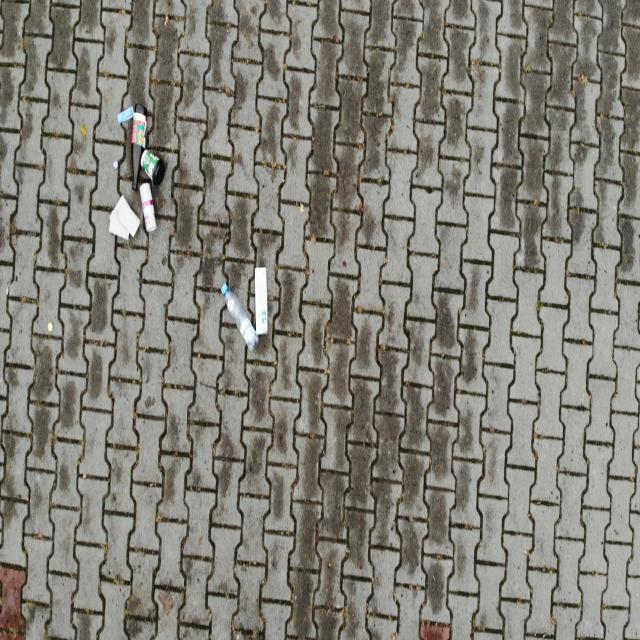rubbish: (221, 285, 259, 355), (131, 103, 148, 189), (110, 195, 141, 239), (140, 148, 165, 187), (255, 265, 268, 335), (140, 181, 158, 231), (116, 105, 135, 126), (112, 159, 117, 170), (47, 321, 53, 330)
